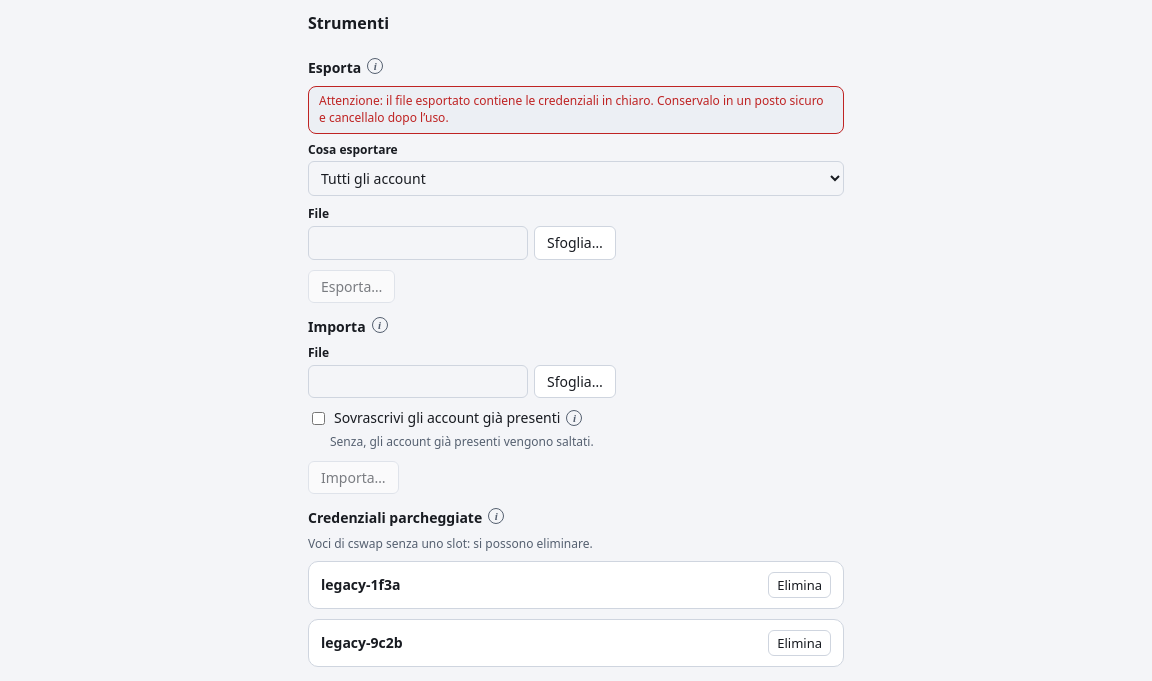
Scenario: ToolsPage: unclaimed e purge › elenca le credenziali parcheggiate; unclaimed --purge chiede conferma
Expected: the list named "Credenziali parcheggiate" is shown, [308, 561, 844, 667]
Expected: the number of list items is 2, [308, 561, 844, 609]; [308, 619, 844, 667]
Click the button with aria-label "Elimina la credenziale legacy-1f3a" at [800, 585], box [768, 572, 831, 598]
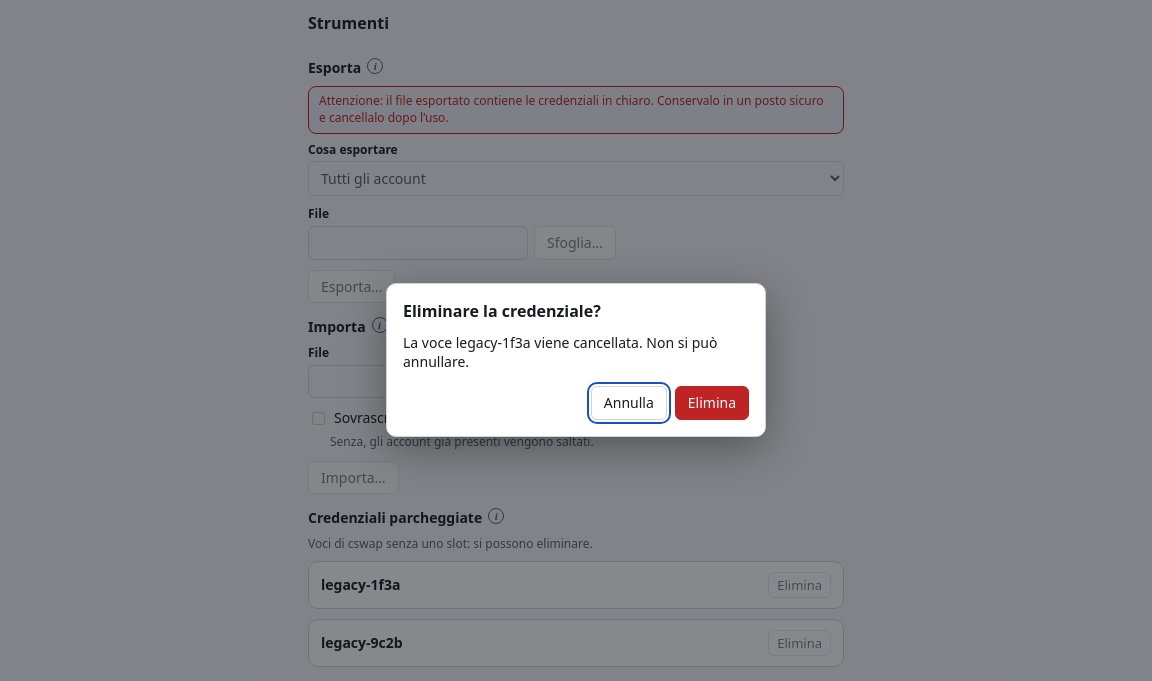
Click the button "Elimina" at [712, 403], box [675, 386, 749, 420]
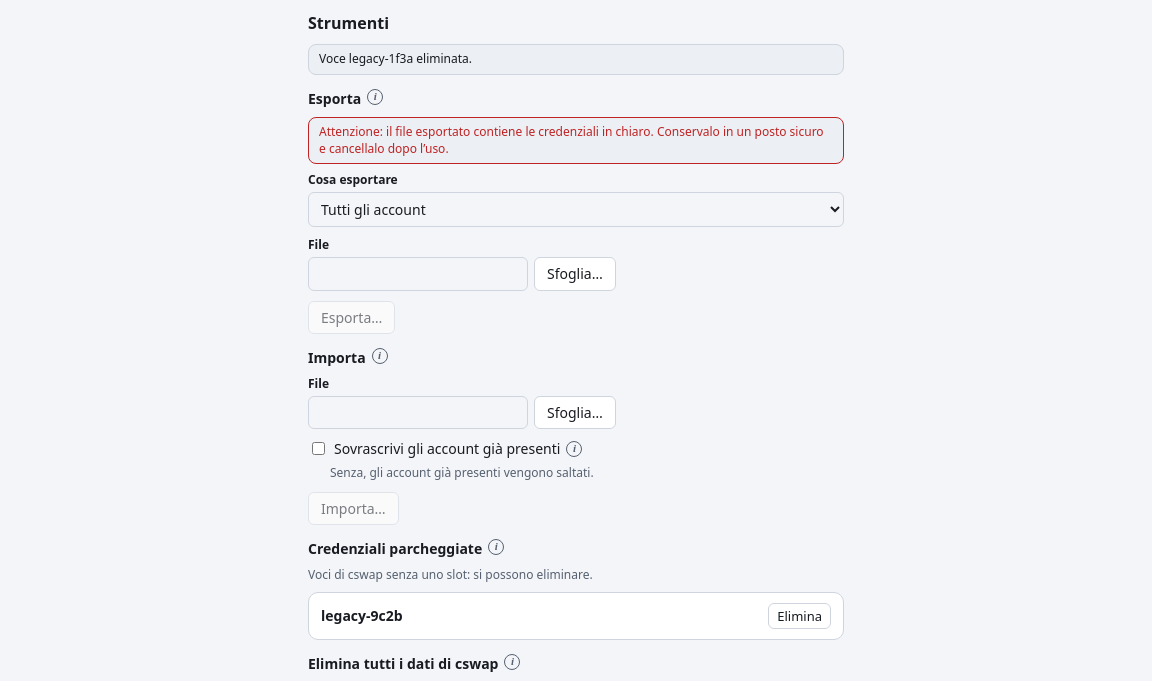
Expected: the number of list items is 1, [308, 592, 844, 640]
